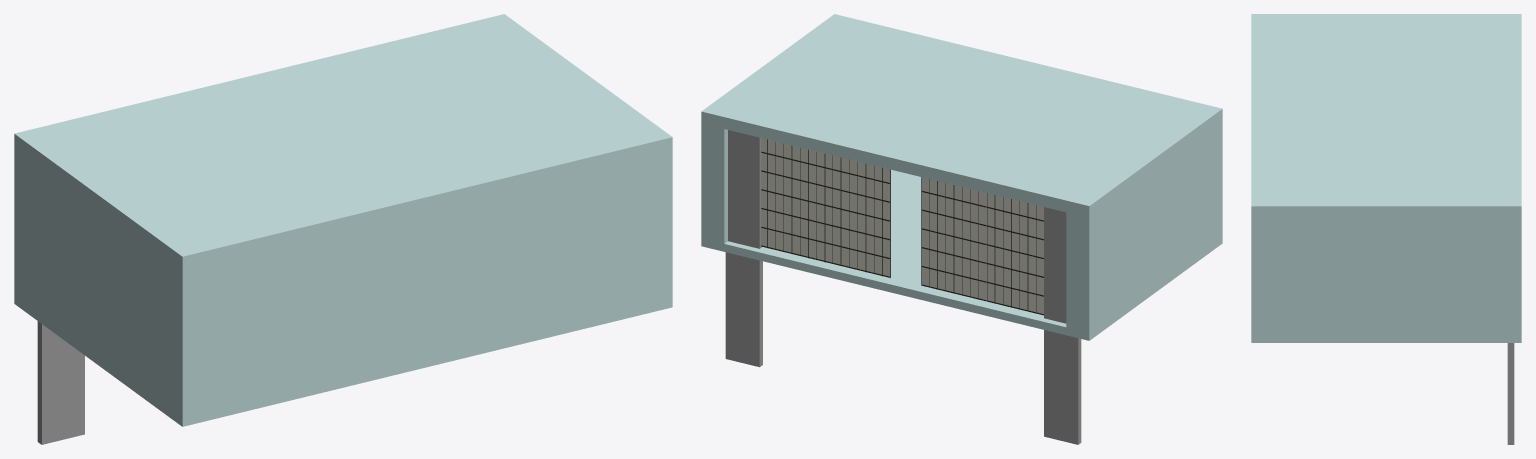
File: SmallChinaShop.fbx
The picture shows the model from 3 angles, left to right: view 1: azimuth 30°, elevation 25°; view 2: azimuth 150°, elevation 25°; view 3: azimuth 270°, elevation 25°; orthographic projection. The views are drawn at different scales.
Visible parts, largest first — view 1: Area; view 2: Area, RicePaperWall0, RicePaperWall1; view 3: Area.
Part boxes in pixels (x1,y1,x2,y2): Area: (14,14,672,444); Area: (701,14,1222,444); RicePaperWall0: (761,138,890,277); RicePaperWall1: (921,177,1043,315); Area: (1251,14,1521,444).
Size of the model in its own units: 12.57 by 7.59 by 7.48.
